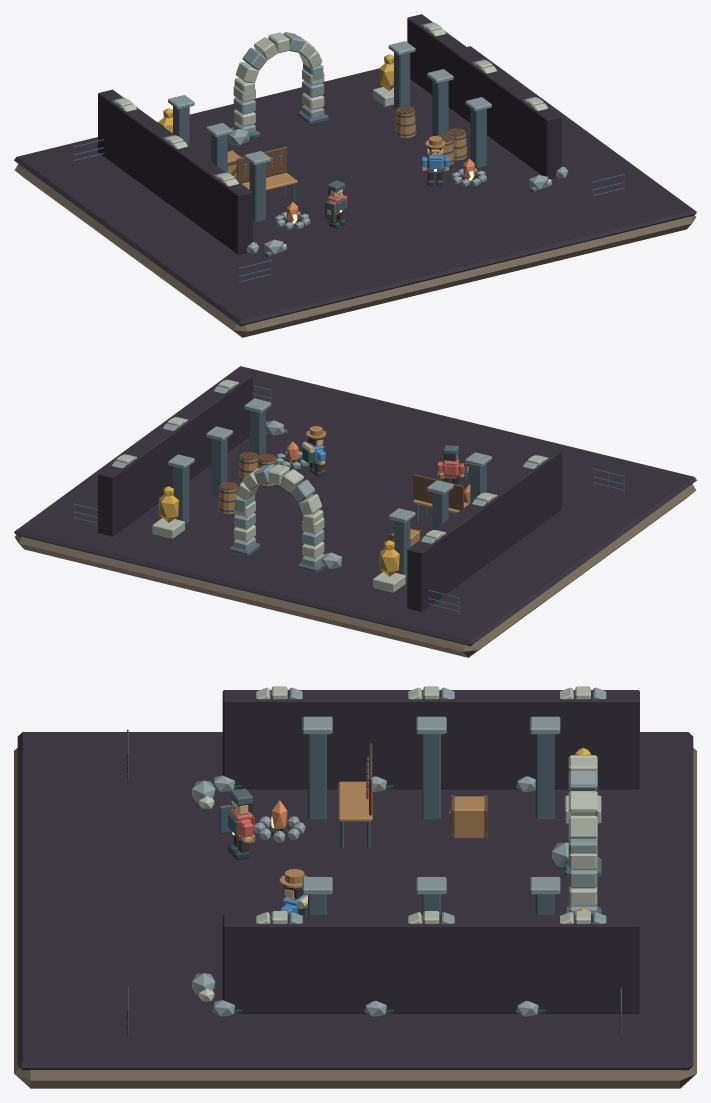
The model's file is world-dungeon.glb.
The picture shows the model from 3 angles, top to bottom: view 1: azimuth 30°, elevation 25°; view 2: azimuth 150°, elevation 25°; view 3: azimuth 270°, elevation 25°; orthographic projection. The views are drawn at different scales.
Parts seen in each view (by area): view 1: terrain-top, dungeon-wall, dungeon-wall.001, terrain-stratum, wall-buttress.003, wall-buttress.005, wall-buttress.004, wall-buttress, pegboard.001, wall-buttress.001, wall-buttress.002; view 2: terrain-top, dungeon-wall, dungeon-wall.001, terrain-stratum, pegboard.001, wall-buttress.004, wall-buttress.005, wall-buttress.002, wall-buttress.003, wall-buttress.001, wall-buttress, plinth.002 (+3 smaller); view 3: terrain-top, dungeon-wall.001, dungeon-wall, terrain-stratum, wall-buttress.002, wall-buttress, wall-buttress.001, crate-body.001, bench-top.001, arch-stone.065, arch-stone.064.
Part boxes in pixels (x1,y1,x2,y2): terrain-top: (14, 46, 696, 326); dungeon-wall: (98, 89, 252, 254); dungeon-wall.001: (407, 14, 561, 178); terrain-stratum: (14, 164, 695, 337); wall-buttress.003: (470, 108, 486, 168); wall-buttress.005: (394, 52, 410, 109); wall-buttress.004: (432, 80, 448, 135); wall-buttress: (249, 162, 265, 222); pegboard.001: (236, 146, 287, 182); wall-buttress.001: (211, 134, 227, 172); wall-buttress.002: (173, 106, 189, 145); terrain-top: (14, 366, 696, 646); dungeon-wall: (407, 447, 561, 611); dungeon-wall.001: (98, 371, 252, 536); terrain-stratum: (15, 484, 696, 657); pegboard.001: (413, 474, 463, 510); wall-buttress.004: (211, 438, 227, 497); wall-buttress.005: (173, 466, 189, 524); wall-buttress.002: (394, 520, 410, 578); wall-buttress.003: (249, 410, 265, 456); wall-buttress.001: (432, 491, 448, 529); wall-buttress: (470, 463, 486, 502); plinth.002: (152, 518, 184, 538); terrain-top: (17, 732, 693, 1070); dungeon-wall.001: (222, 914, 639, 1013); dungeon-wall: (222, 690, 639, 789); terrain-stratum: (14, 748, 696, 1088); wall-buttress.002: (535, 734, 554, 819); wall-buttress: (308, 734, 326, 819); wall-buttress.001: (422, 734, 440, 819); crate-body.001: (454, 796, 484, 838); bench-top.001: (338, 781, 372, 821); arch-stone.065: (568, 791, 597, 816); arch-stone.064: (568, 815, 597, 838).
Size of the model in its own units: 21 by 4.82 by 18.
